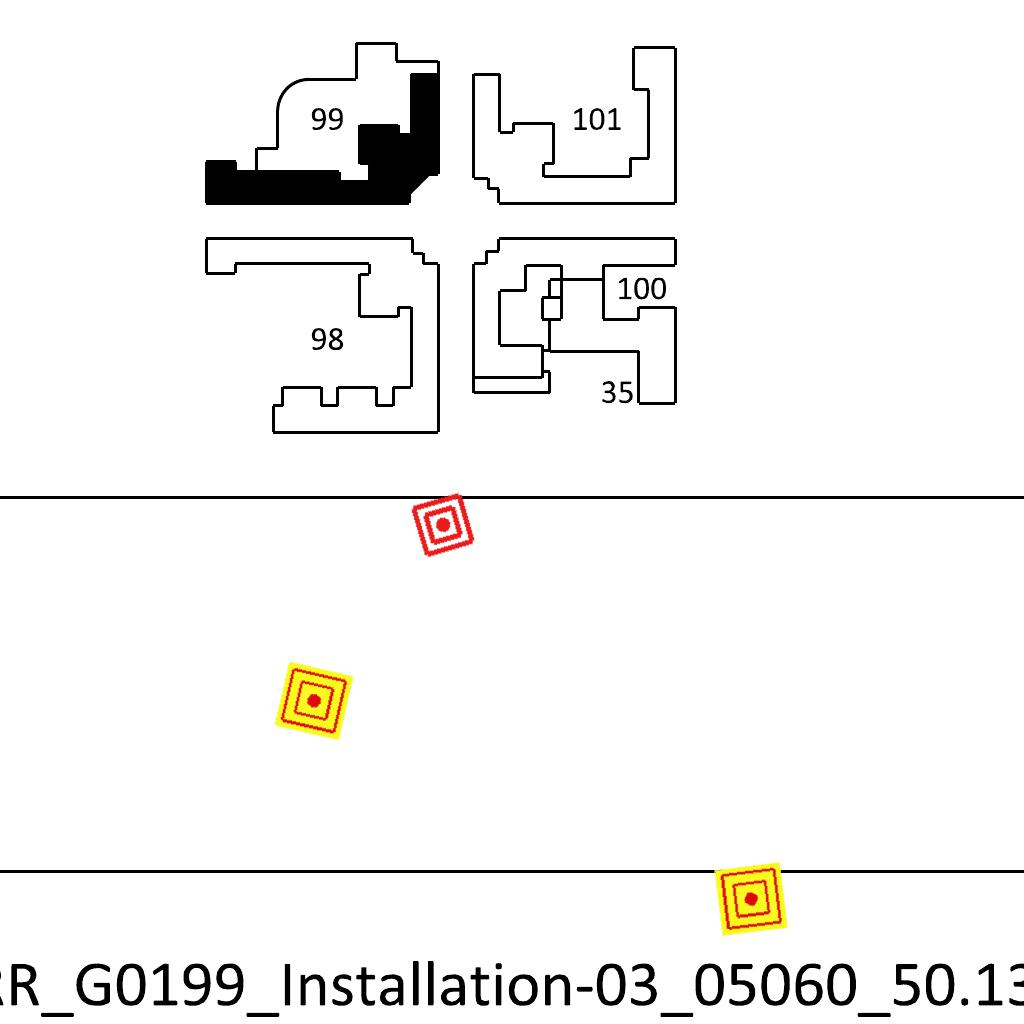NAM-Nichtautomatischer_Melder: (274, 661, 354, 741), (714, 862, 788, 936), (408, 490, 478, 560)
